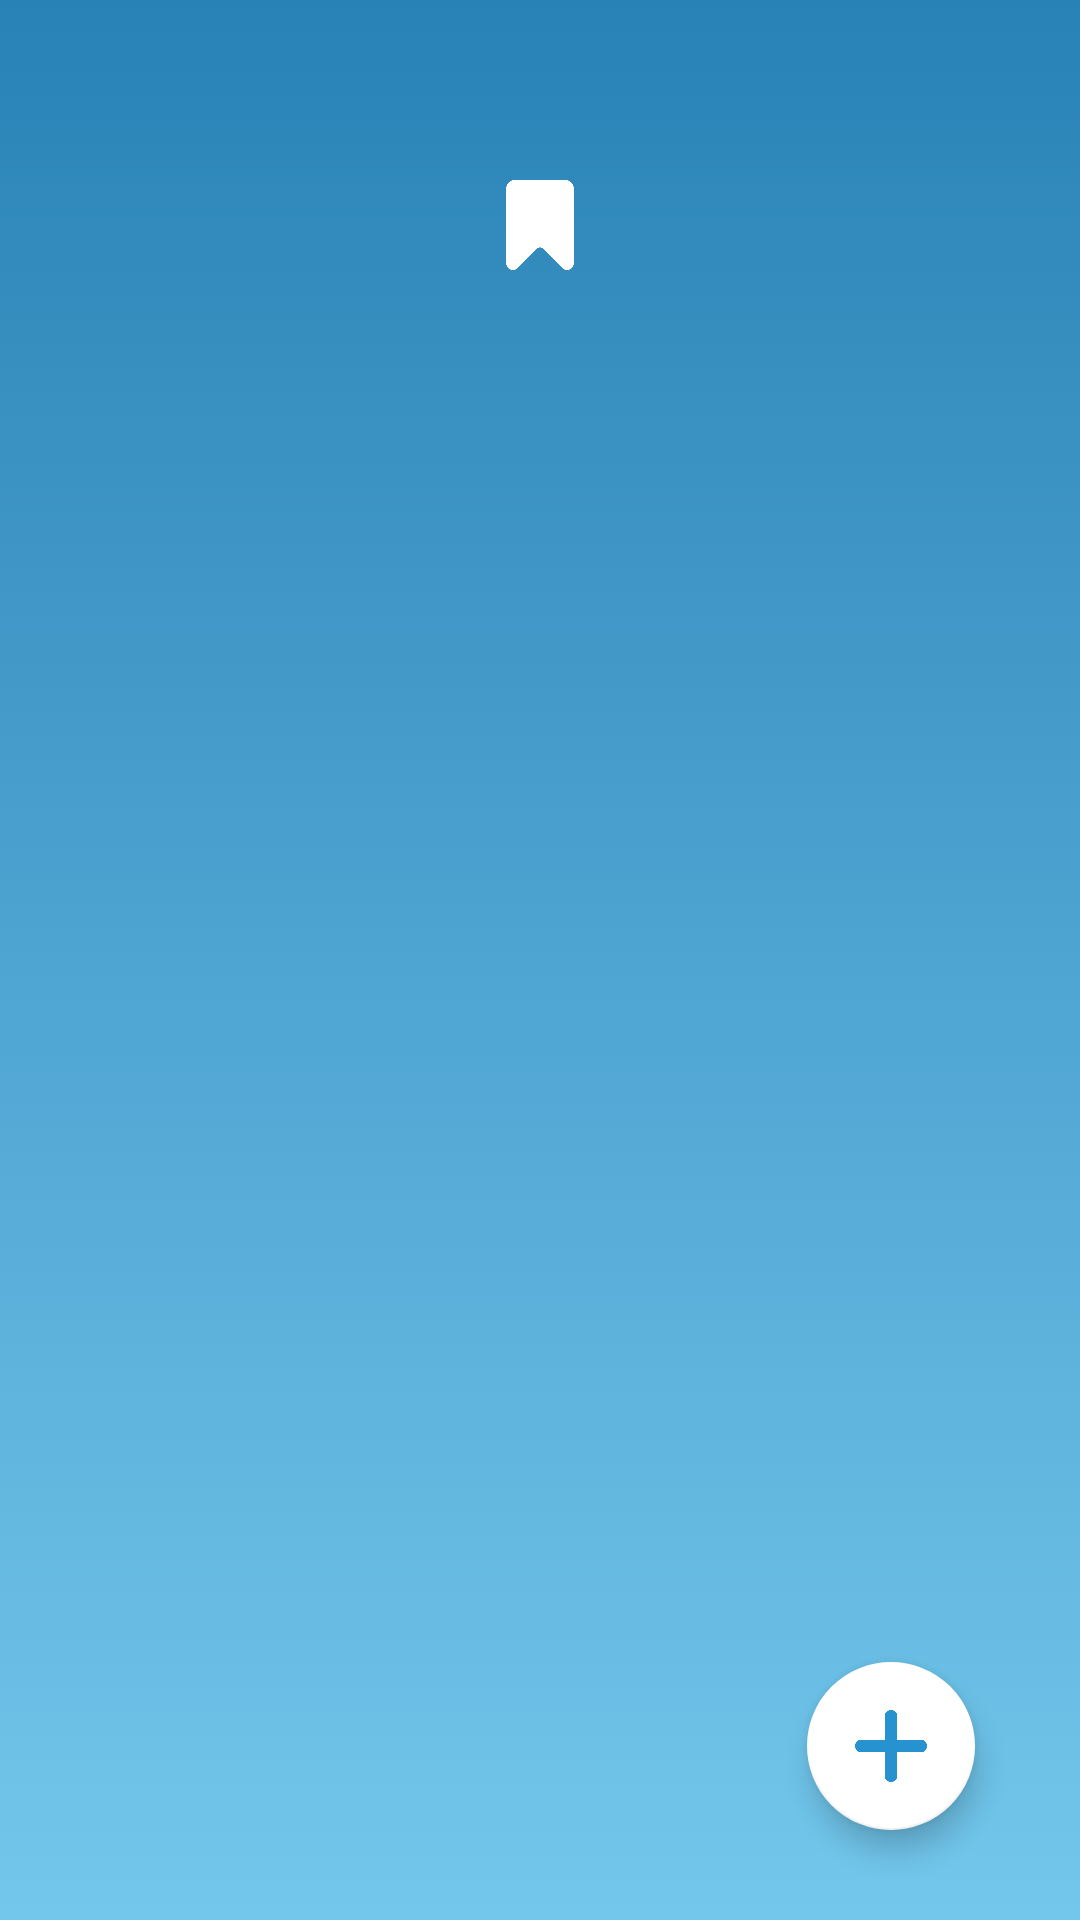

Icon click points for this 1080 × 1920 phone screenshot, format [x,y]:
plus: [891,1746]
save: [540,225]
